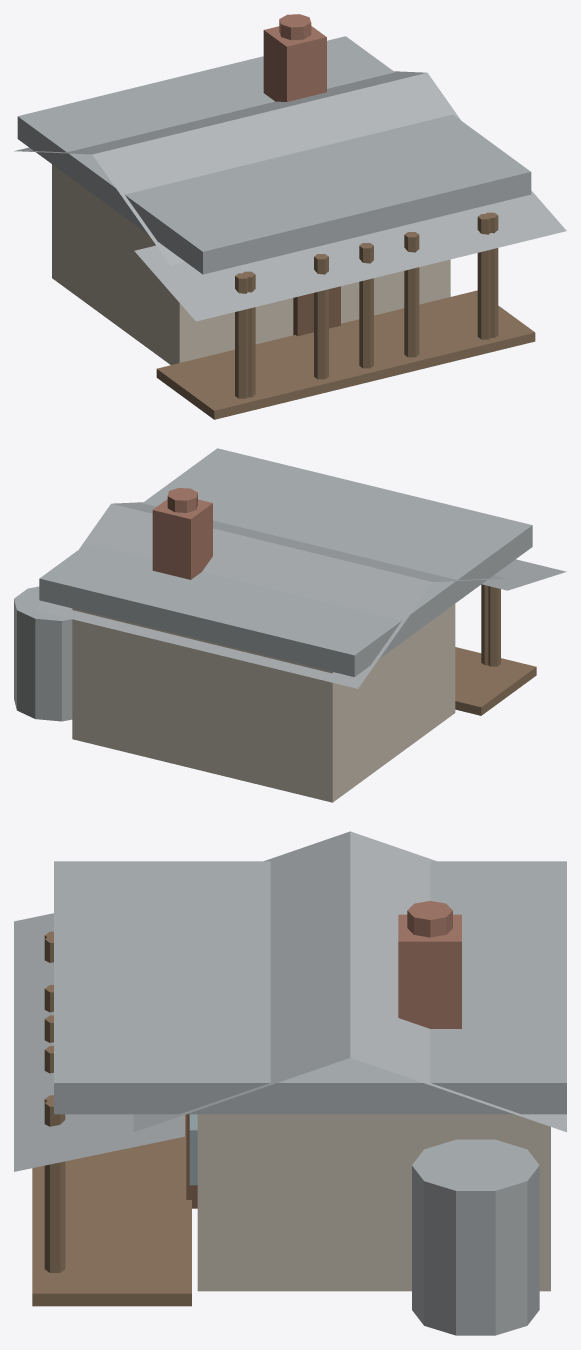
The model's file is homestead.glb.
The picture shows the model from 3 angles, top to bottom: view 1: azimuth 30°, elevation 25°; view 2: azimuth 150°, elevation 25°; view 3: azimuth 270°, elevation 25°; orthographic projection. The views are drawn at different scales.
Parts seen in each view (by area): view 1: near, far; view 2: near, far; view 3: near, far.
Part boxes in pixels (box(x1,y1,x2,y2)): near: box(14, 14, 566, 419); far: box(17, 36, 531, 397); near: box(14, 488, 566, 802); far: box(39, 448, 532, 676); near: box(14, 831, 566, 1335); far: box(44, 861, 566, 1114).
Size of the model in its own units: 2.82 by 1.61 by 2.43.
